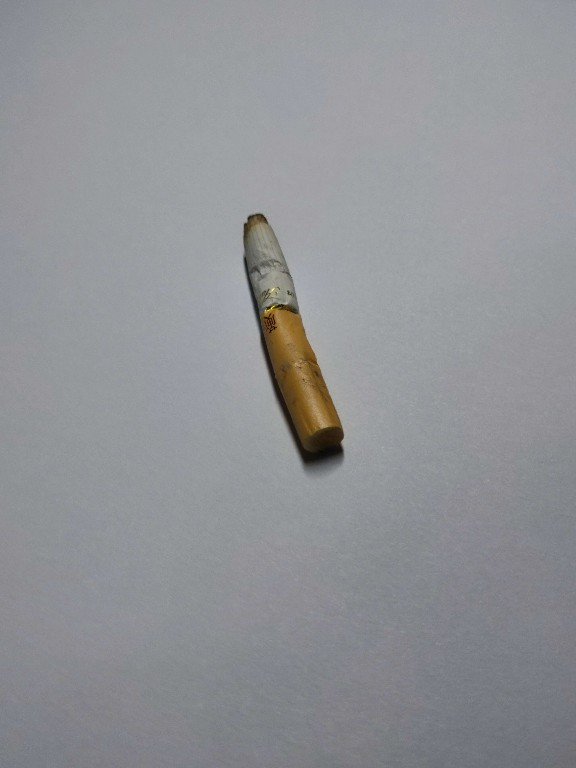cigarette: (240, 209, 347, 459)
